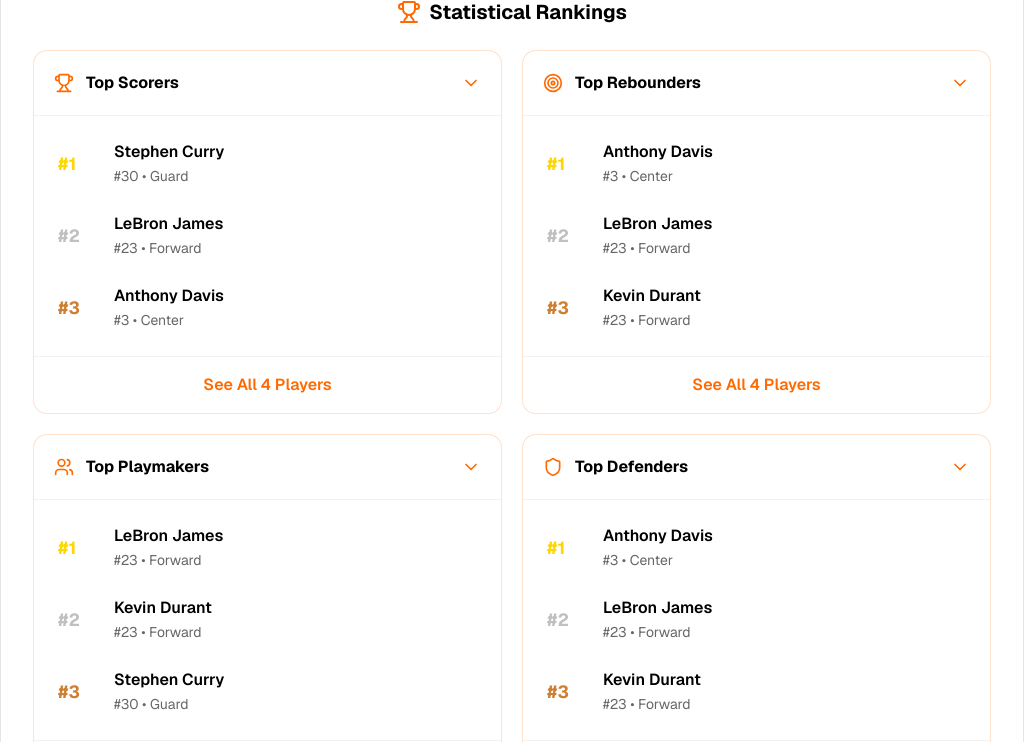
Scenario: PlayerStats › Statistical Rankings › should expand table when "See All" button is clicked
(page scrolled)
Click the text "See All 4 Players" below "Top Scorers" at {"x": 268, "y": 384}, box [34,356,501,413]
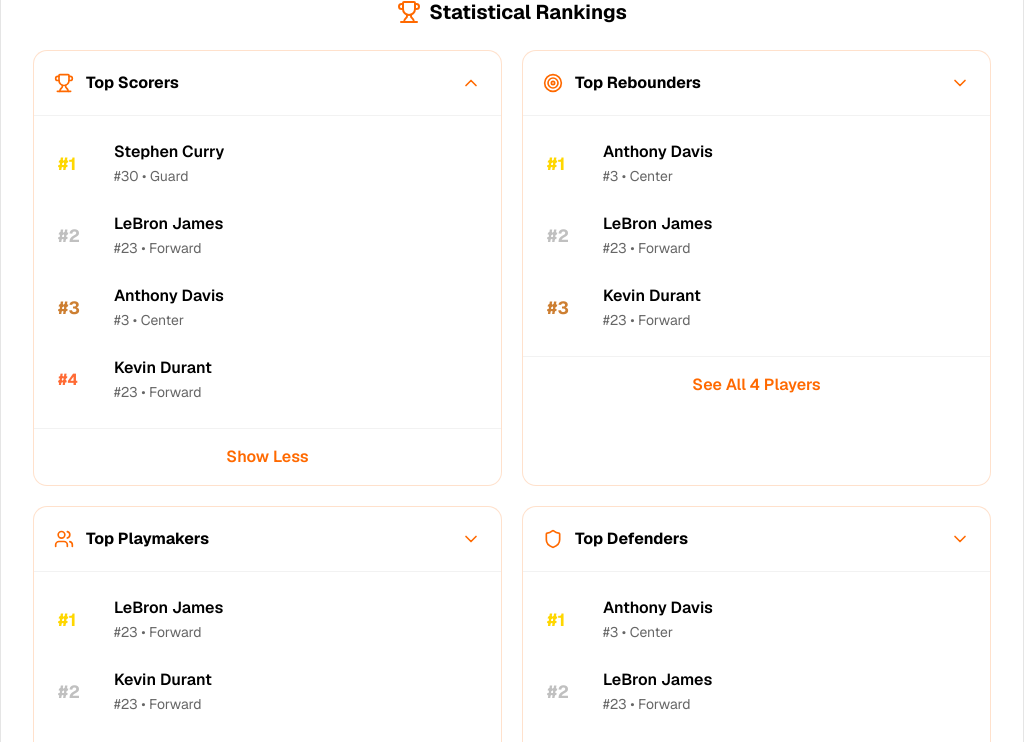
Expected: the text "Show Less" is shown, [34,428,501,485]
